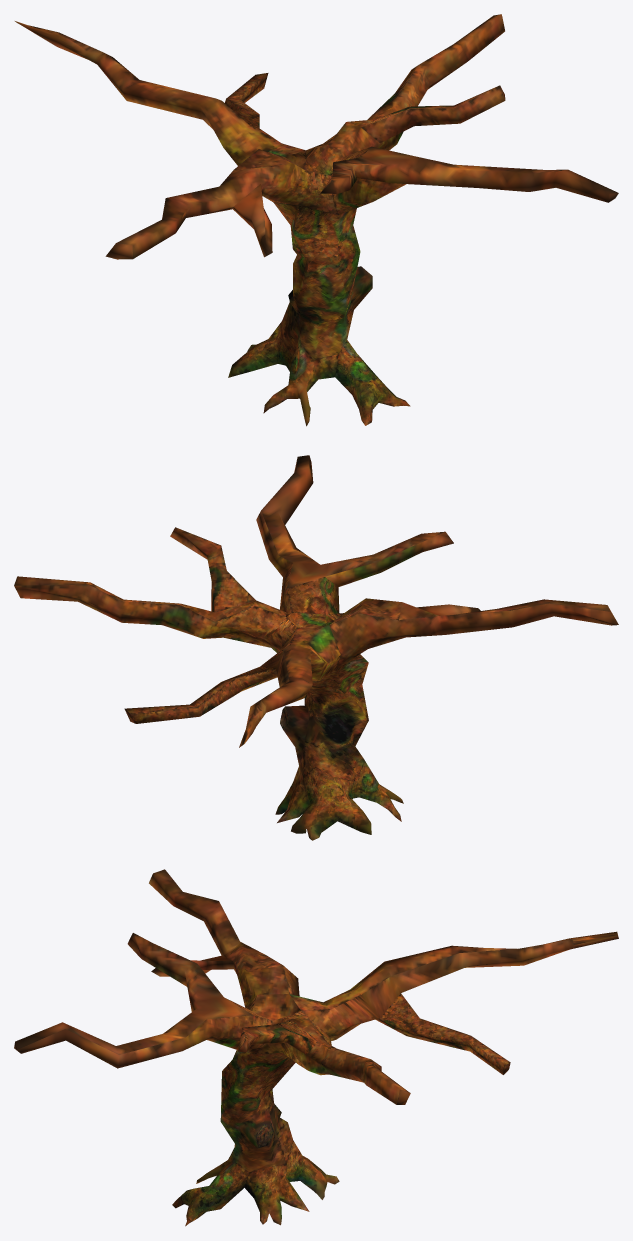
Rendered from tree_mesh.fbx.
The picture shows the model from 3 angles, top to bottom: view 1: azimuth 30°, elevation 25°; view 2: azimuth 150°, elevation 25°; view 3: azimuth 270°, elevation 25°; orthographic projection. The views are drawn at different scales.
Parts seen in each view (by area): view 1: polySurface2; view 2: polySurface2; view 3: polySurface2.
Boxes of the visible parts, <box> form: polySurface2: <box>15,14,618,426</box>; polySurface2: <box>14,455,618,840</box>; polySurface2: <box>14,869,618,1226</box>.
Bounding box in the file's own units: 13.67 × 6.78 × 15.02.
1 material, 1 textured.
